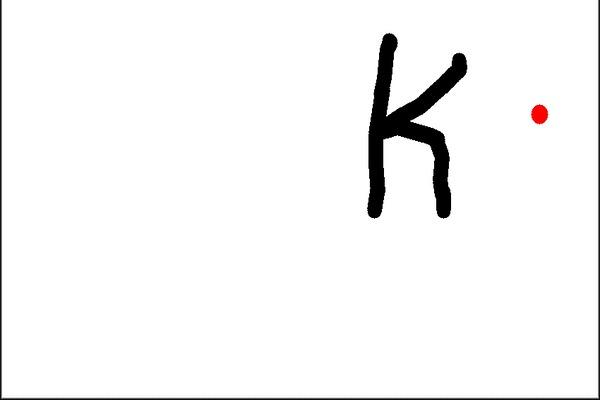K: (359, 27, 469, 227)
